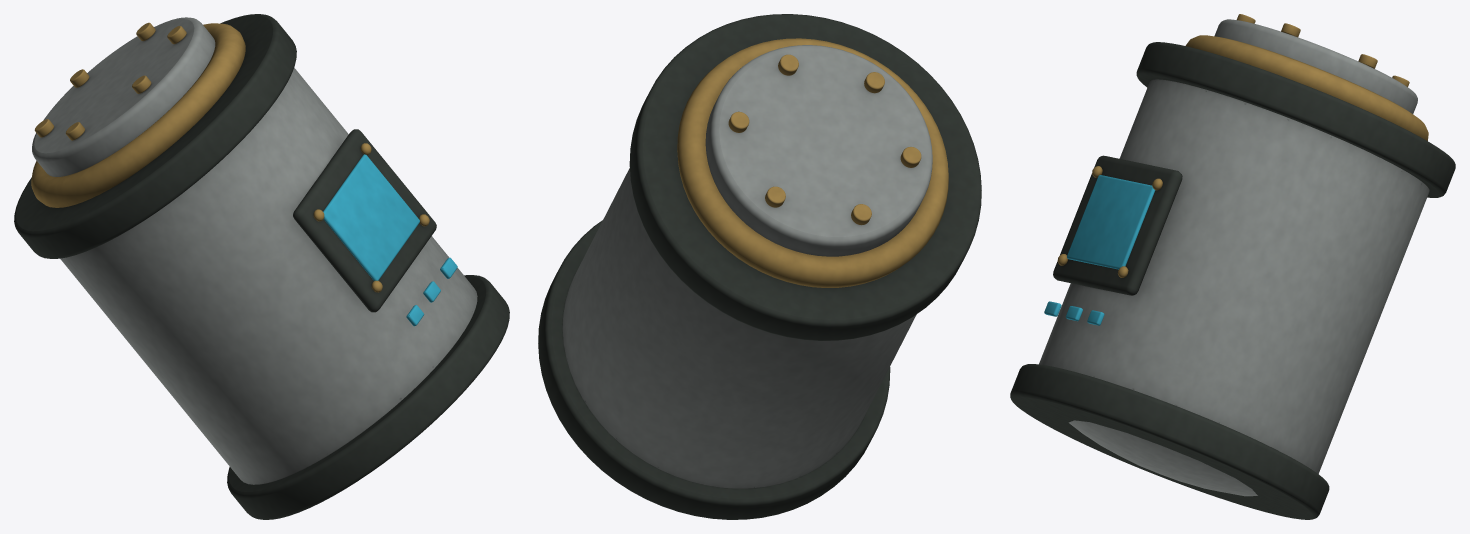
The picture shows the model from 3 angles, left to right: view 1: azimuth 30°, elevation 25°; view 2: azimuth 150°, elevation 25°; view 3: azimuth 270°, elevation 25°; orthographic projection. The views are drawn at different scales.
Parts seen in each view (by area): view 1: Pressure shell; view 2: Pressure shell; view 3: Pressure shell.
Boxes of the visible parts, box(x1,y1,x2,y2) form: Pressure shell: box(14, 14, 509, 519); Pressure shell: box(538, 14, 981, 519); Pressure shell: box(1010, 14, 1455, 519).
Bounding box in the file's own units: 1.2 × 1.28 × 1.13.
1 material, 1 textured.
